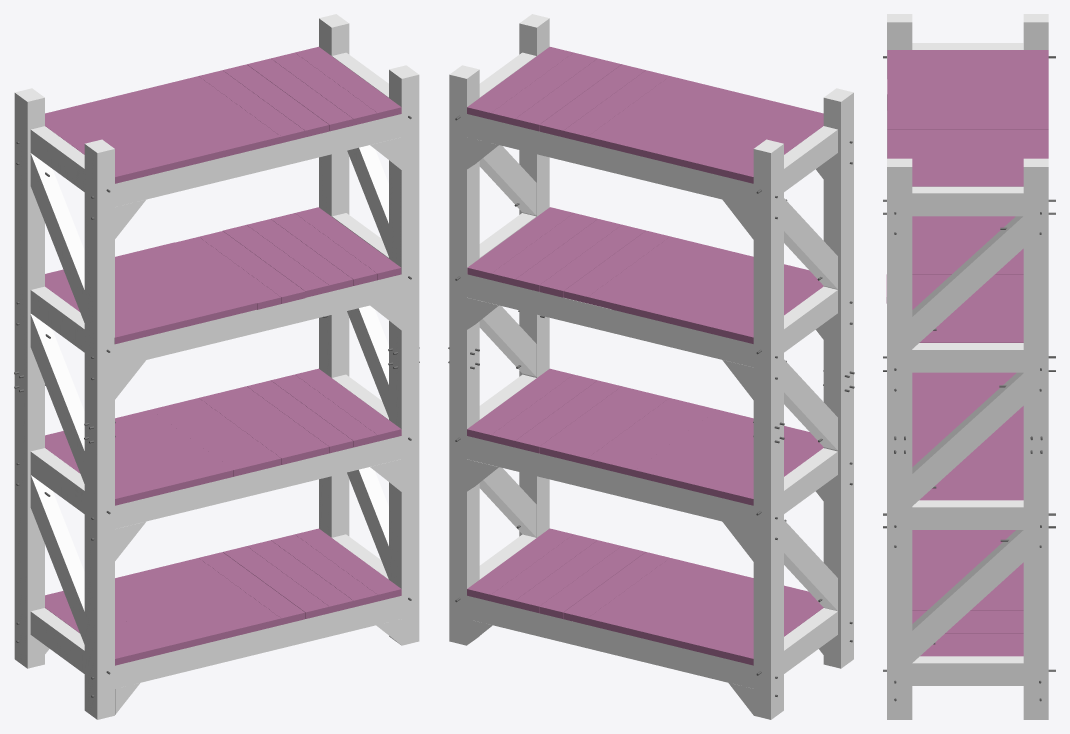
File: armario_rosada.glb
3 renders of one model, left to right at view 1: azimuth 30°, elevation 25°; view 2: azimuth 150°, elevation 25°; view 3: azimuth 270°, elevation 25°, orthographic. The views are drawn at different scales.
Parts seen in each view (by area): view 1: Cube, Cube.005, Cube.014, Cube.011, Cube.009, Cube.002, Cubo.027, Cubo.042, Cubo, Cubo.028, Cube.012, Cube.019 (+62 smaller); view 2: Cube.009, Cube.002, Cube, Cube.010, Cube.013, Cubo.030, Cubo.025, Cubo.044, Cubo.002, Cube.005, Cube.014, Cube.003 (+62 smaller); view 3: Cube.013, Cube.011, Cube.014, Cube.010, Cube.021, Cube.022, Cube.020, Cube.015, Cube.016, Cube.017, Cube.018, Cubo.050 (+48 smaller).
Boxes of the visible parts, <box> form: Cube: <box>84,139,114,453</box>; Cube.005: <box>84,415,114,719</box>; Cube.014: <box>389,65,419,378</box>; Cube.011: <box>389,341,419,645</box>; Cube.009: <box>14,88,44,401</box>; Cube.002: <box>14,366,44,668</box>; Cubo.027: <box>115,436,401,528</box>; Cubo.042: <box>115,114,401,206</box>; Cubo: <box>115,596,401,688</box>; Cubo.028: <box>115,274,401,367</box>; Cube.012: <box>30,314,84,483</box>; Cube.019: <box>30,153,84,322</box>; Cube.009: <box>753,139,783,452</box>; Cube.002: <box>753,416,783,719</box>; Cube: <box>823,88,853,401</box>; Cube.010: <box>449,65,479,378</box>; Cube.013: <box>449,341,479,645</box>; Cubo.030: <box>467,274,753,367</box>; Cubo.025: <box>467,436,753,528</box>; Cubo.044: <box>467,114,753,206</box>; Cubo.002: <box>467,595,753,688</box>; Cube.005: <box>823,364,853,668</box>; Cube.014: <box>519,14,549,327</box>; Cube.003: <box>784,520,837,610</box>; Cube.013: <box>1023,427,1048,719</box>; Cube.011: <box>887,427,912,719</box>; Cube.014: <box>887,158,912,427</box>; Cube.010: <box>1023,158,1048,427</box>; Cube.021: <box>912,372,1023,505</box>; Cube.022: <box>912,530,1023,662</box>; Cube.020: <box>912,216,1023,348</box>; Cube.015: <box>912,186,1023,216</box>; Cube.016: <box>912,343,1023,372</box>; Cube.017: <box>912,500,1023,529</box>; Cube.018: <box>912,656,1023,685</box>; Cubo.050: <box>887,117,1048,129</box>.
Bounding box in the file's own units: 1.04 × 1.7 × 0.4814.
